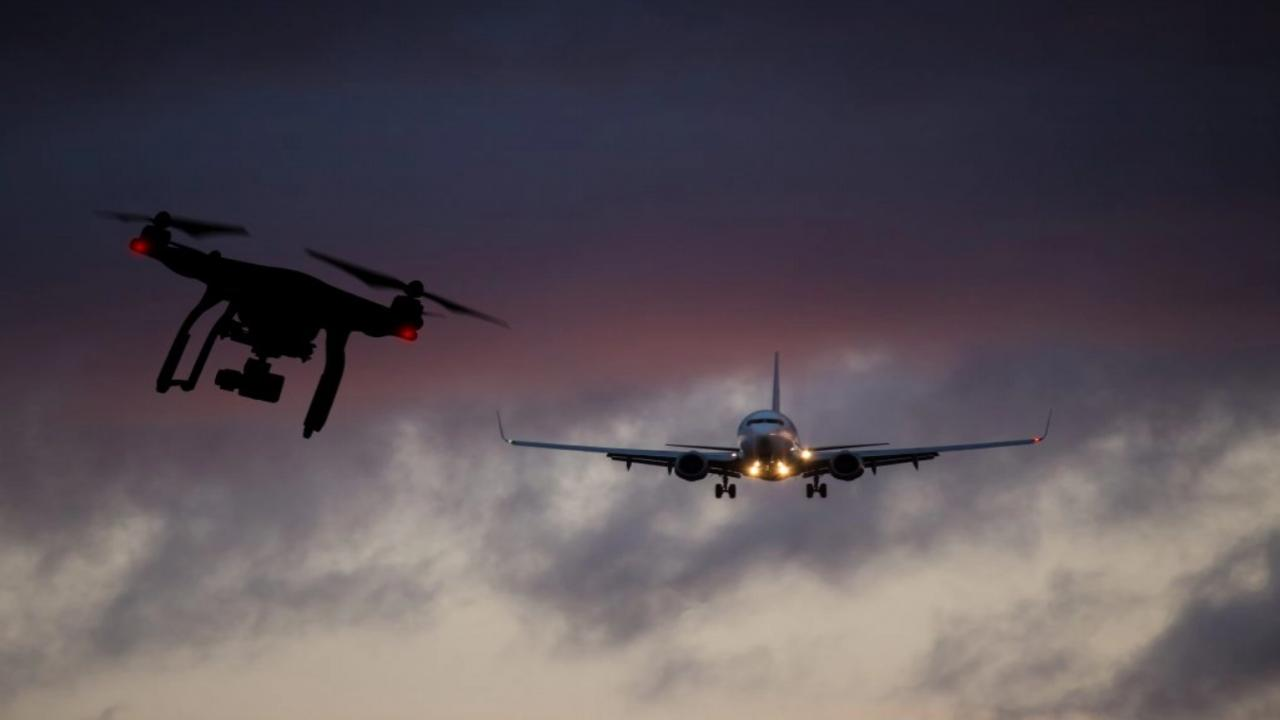Airplane: (481, 336, 1066, 514)
Drone: (73, 190, 523, 451)
